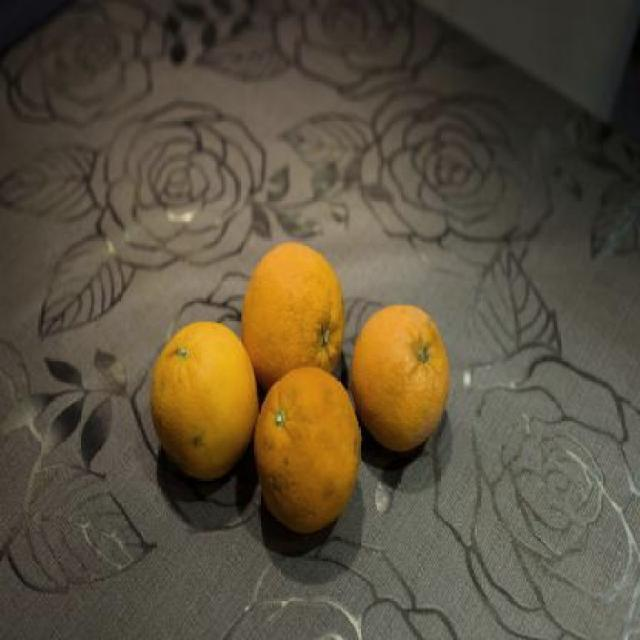Jeruk Sudah Matang: (242, 242, 348, 406), (258, 370, 362, 536), (152, 320, 260, 477), (353, 305, 452, 458)
